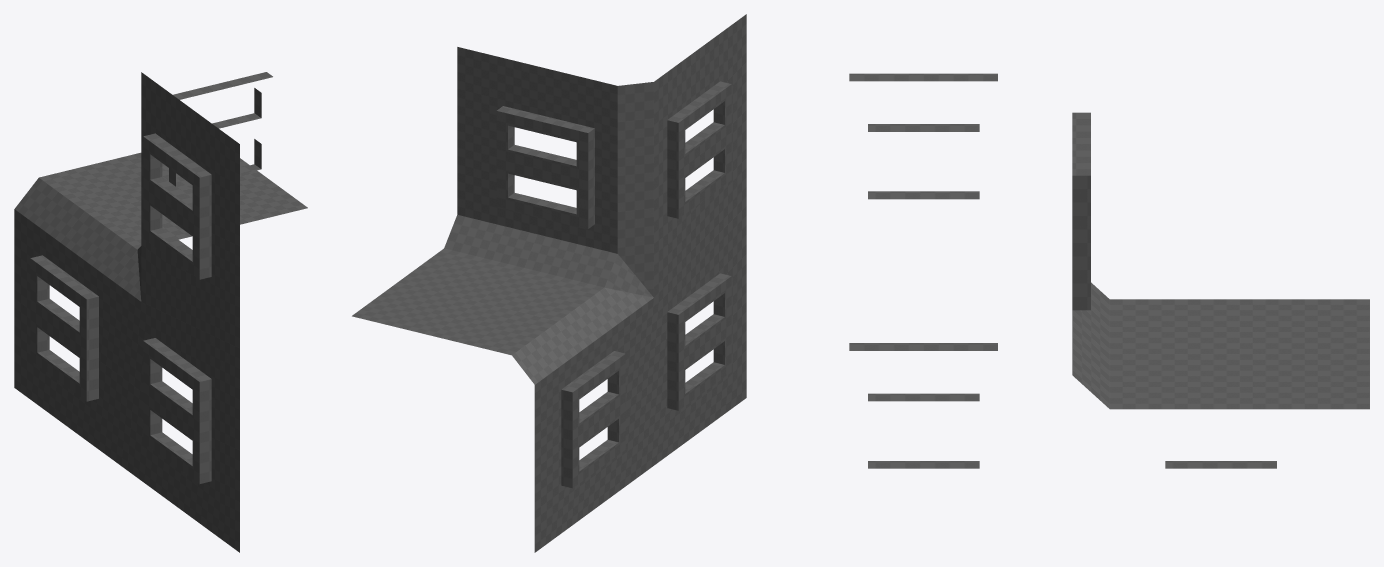
3 renders of one model, left to right at view 1: azimuth 30°, elevation 25°; view 2: azimuth 150°, elevation 25°; view 3: azimuth 270°, elevation 25°, orthographic. The views are drawn at different scales.
Visible parts, largest first — view 1: CubeUpBackLeftV4; view 2: CubeUpBackLeftV4; view 3: CubeUpBackLeftV4.
Part boxes in pixels (bbox=[...]): CubeUpBackLeftV4: bbox=[14, 72, 307, 552]; CubeUpBackLeftV4: bbox=[352, 14, 746, 552]; CubeUpBackLeftV4: bbox=[849, 73, 1369, 468].
Size of the model in its own units: 2.12 by 4 by 4.
1 material, 1 textured.
